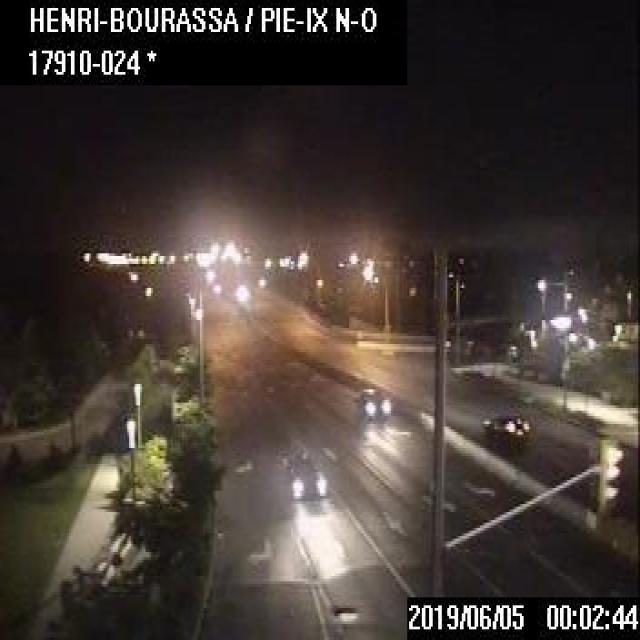vehicle: (287, 445, 324, 496), (480, 403, 527, 440), (352, 384, 392, 421)
